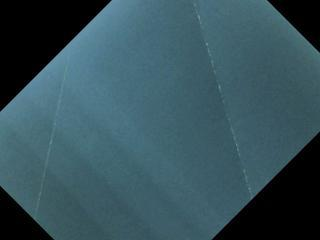crack: (192, 0, 255, 201), (30, 43, 76, 221)
